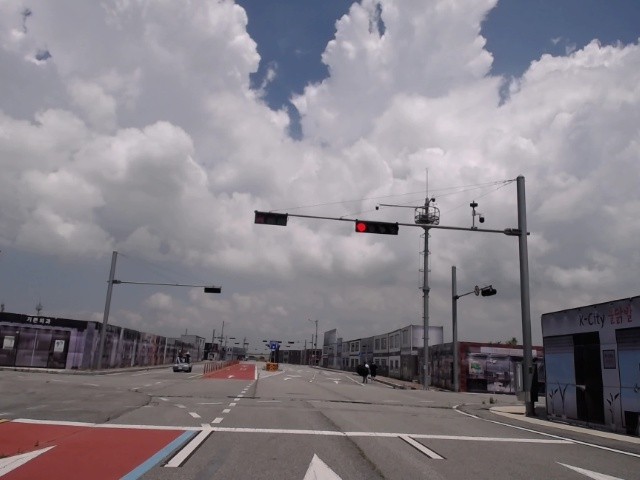red_4: (356, 221, 398, 235)
